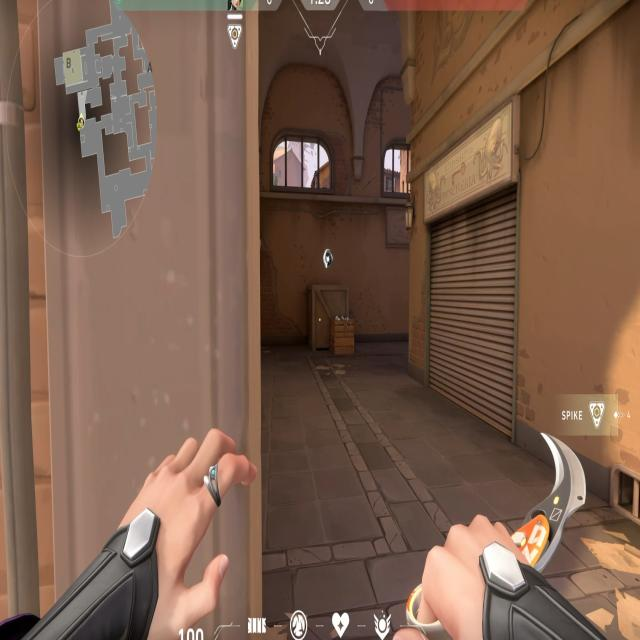B_Main_Wallbang: (293, 237, 359, 370)
Throwables: (267, 126, 340, 202), (380, 135, 409, 202)
